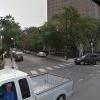Car: (70, 51, 100, 66)
